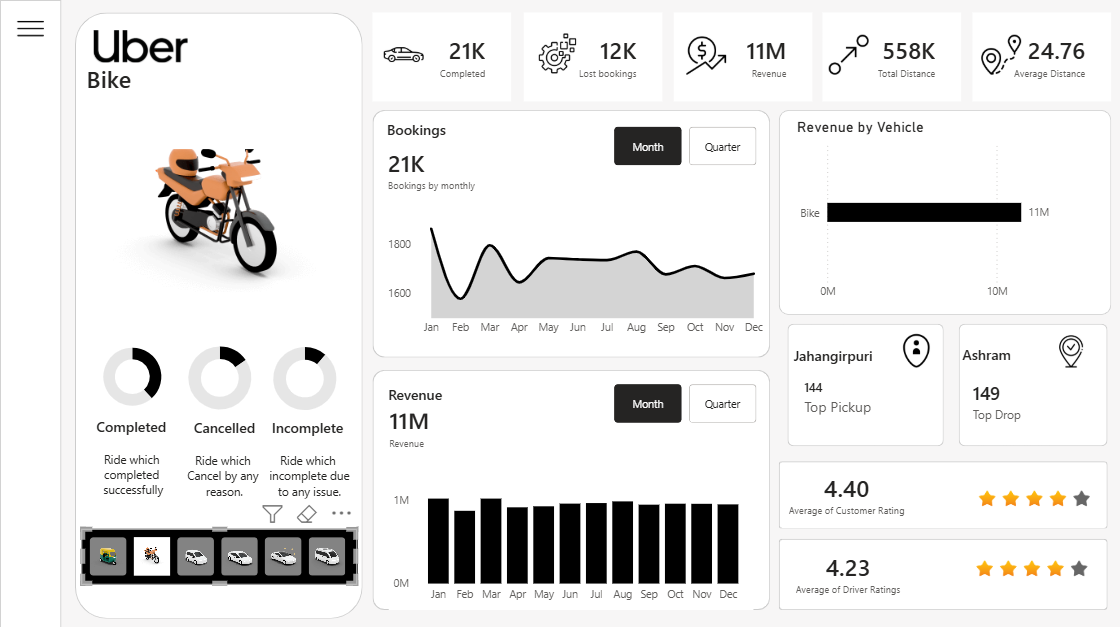

The page's visual inventory and layout, read from the dashboard file:
{"tool":"powerbi","page":{"name":"Vehicle","canvas":[1280,720],"ordinal":2},"visuals":[{"type":"shape","box":[0,0,70,720],"z":0},{"type":"image","box":[15.7,14.3,40,38.6],"z":1000},{"type":"shape","box":[85.7,14.3,328.6,692.9],"z":2000},{"type":"image","box":[107.1,25.7,107.1,54.3],"z":3000},{"type":"cardVisual","fields":{"Data":["Measure_table.Completed_bookings1"]},"box":[425.7,14.3,158.6,101.4],"z":4000},{"type":"cardVisual","fields":{"Data":["Measure_table.Lost_bookings"]},"box":[598.6,14.3,158.6,101.4],"z":5000},{"type":"cardVisual","fields":{"Data":["Measure_table.Revenue"]},"box":[770,14.3,158.6,101.4],"z":6000},{"type":"cardVisual","fields":{"Data":["Measure_table.Total_Distance"]},"box":[940,14.3,158.6,101.4],"z":7000},{"type":"cardVisual","fields":{"Data":["Measure_table.Average_Distance"]},"box":[1111.4,14.3,158.6,101.4],"z":8000},{"type":"advancedSlicerVisual","fields":{"Values":["Img.Vehicle Type"]},"box":[92.9,604.3,315.7,64.3],"z":9000},{"type":"cardVisual","fields":{"Data":["Min(Img.Vehicle Type)"]},"box":[70,53.5,255.2,72.7],"z":10000},{"type":"cardVisual","fields":{"Data":["Min(Img.Img)"]},"box":[85.7,0,327.1,340],"z":11000},{"type":"tableEx","fields":{"Values":["Img.Img","Uber.Vehicle","Measure_table.Customer_count","Measure_table.Revenue","Measure_table.Completed_bookings","Measure_table.Cont%=","SparklineData(Measure_table.Completed_bookings_[Calendar.Month])"]},"box":[425.7,125.7,844.3,568.6],"z":12000},{"type":"donutChart","fields":{"Y":["Measure_table.Booking_count","Measure_table.Measure"]},"box":[101.4,384.3,100,92.9],"z":13000},{"type":"donutChart","fields":{"Y":["Measure_table.Booking_count","Measure_table.Measure"]},"box":[201.4,380,100,104.3],"z":14000},{"type":"donutChart","fields":{"Y":["Measure_table.Booking_count","Measure_table.Measure"]},"box":[298.6,382.9,100,100],"z":15000},{"type":"textbox","box":[97.1,471.4,110,110],"z":16000},{"type":"textbox","box":[201.4,472.9,110,110],"z":17000},{"type":"textbox","box":[298.6,472.9,110,110],"z":18000},{"type":"image","box":[438.6,35.7,45.7,54.3],"z":19000},{"type":"image","box":[614.3,34.3,45.7,54.3],"z":20000},{"type":"image","box":[784.3,35.7,45.7,54.3],"z":21000},{"type":"image","box":[947.1,35.7,45.7,54.3],"z":22000},{"type":"image","box":[1121.4,35.7,45.7,54.3],"z":23000},{"type":"lineChart","fields":{"Category":["Uber.Vehicle"],"Y":["Measure_table.Revenue"]},"box":[315.7,340,77.1,40],"z":24000}]}

Visuals, with their boxes in screenshot pixels (x1, y1, x2, y2), scaled from the page's 1280x720 canvas onto the 1120x627 screenshot:
shape: BBox(0, 0, 61, 626)
image: BBox(14, 12, 49, 46)
shape: BBox(75, 12, 363, 616)
image: BBox(94, 22, 187, 70)
cardVisual - Measure_table.Completed_bookings1: BBox(372, 12, 511, 101)
cardVisual - Measure_table.Lost_bookings: BBox(524, 12, 663, 101)
cardVisual - Measure_table.Revenue: BBox(674, 12, 813, 101)
cardVisual - Measure_table.Total_Distance: BBox(822, 12, 961, 101)
cardVisual - Measure_table.Average_Distance: BBox(972, 12, 1111, 101)
advancedSlicerVisual - Img.Vehicle Type: BBox(81, 526, 358, 582)
cardVisual - Min(Img.Vehicle Type): BBox(61, 47, 285, 110)
cardVisual - Min(Img.Img): BBox(75, 0, 361, 296)
tableEx - Img.Img x Uber.Vehicle: BBox(372, 109, 1111, 605)
donutChart - Measure_table.Booking_count x Measure_table.Measure: BBox(89, 335, 176, 416)
donutChart - Measure_table.Booking_count x Measure_table.Measure: BBox(176, 331, 264, 422)
donutChart - Measure_table.Booking_count x Measure_table.Measure: BBox(261, 333, 349, 421)
textbox: BBox(85, 411, 181, 506)
textbox: BBox(176, 412, 272, 508)
textbox: BBox(261, 412, 358, 508)
image: BBox(384, 31, 424, 78)
image: BBox(538, 30, 578, 77)
image: BBox(686, 31, 726, 78)
image: BBox(829, 31, 869, 78)
image: BBox(981, 31, 1021, 78)
lineChart - Uber.Vehicle x Measure_table.Revenue: BBox(276, 296, 344, 331)
